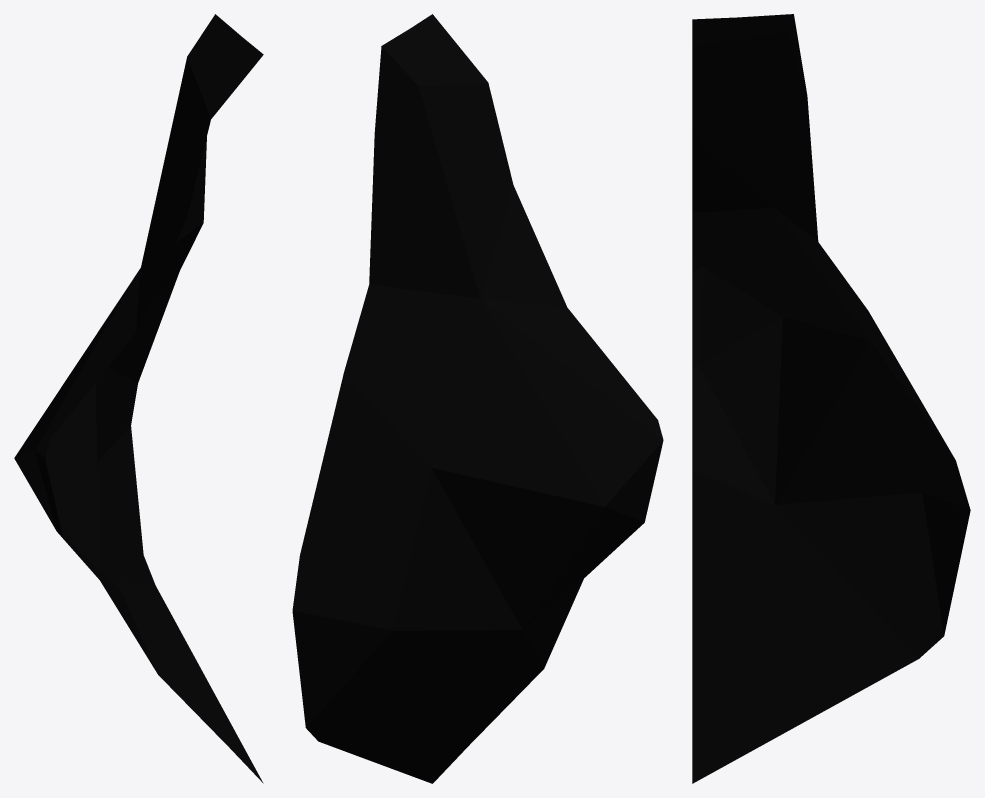
3 renders of one model, left to right at view 1: azimuth 30°, elevation 25°; view 2: azimuth 150°, elevation 25°; view 3: azimuth 270°, elevation 25°, orthographic. The views are drawn at different scales.
Size of the model in its own units: 0.1403 by 0.4399 by 0.1441.
Materials: 1 (1 with a texture image).
